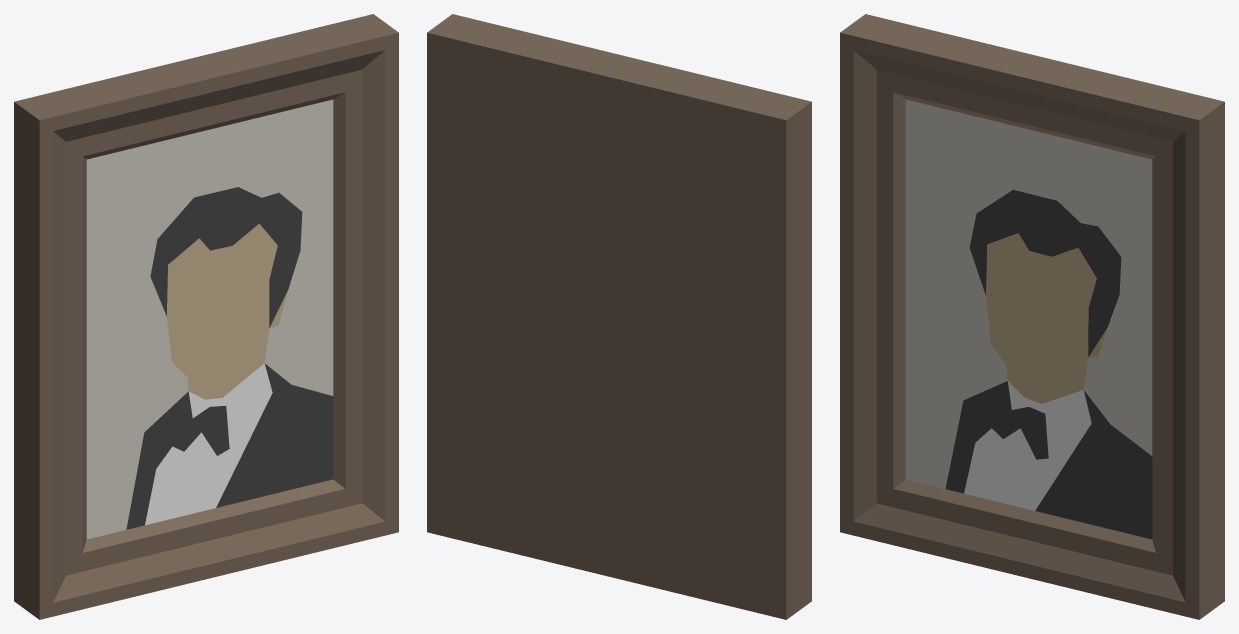
Rendered from SM_Prop_Art_01.fbx.
3 renders of one model, left to right at view 1: azimuth 30°, elevation 25°; view 2: azimuth 150°, elevation 25°; view 3: azimuth 330°, elevation 25°, orthographic.
Parts seen in each view (by area): view 1: SM_Prop_Art_01; view 2: SM_Prop_Art_01; view 3: SM_Prop_Art_01.
Part boxes in pixels (x1,y1,x2,y2): SM_Prop_Art_01: [14, 14, 398, 619]; SM_Prop_Art_01: [427, 14, 811, 619]; SM_Prop_Art_01: [840, 14, 1224, 619].
Size of the model in its own units: 34.84 by 46.29 by 4.28.
